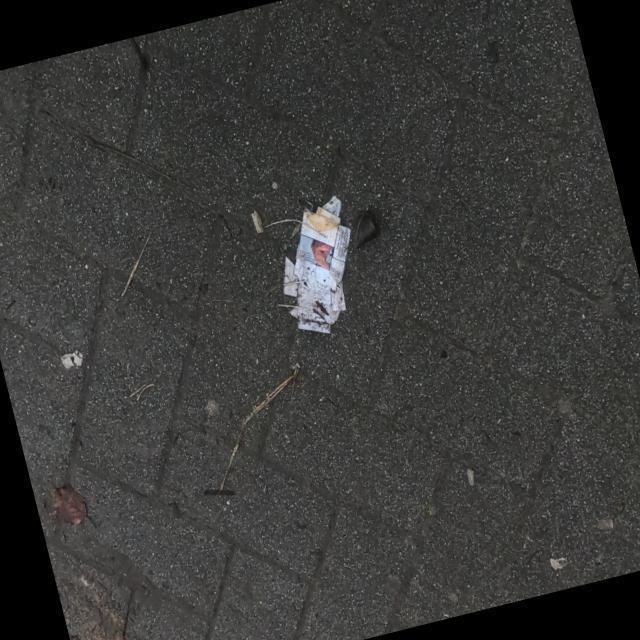Paper: (281, 192, 354, 336)
